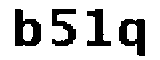1: (84, 7, 114, 49)
5: (49, 4, 82, 50)
b: (9, 4, 44, 51)
q: (119, 15, 148, 60)
